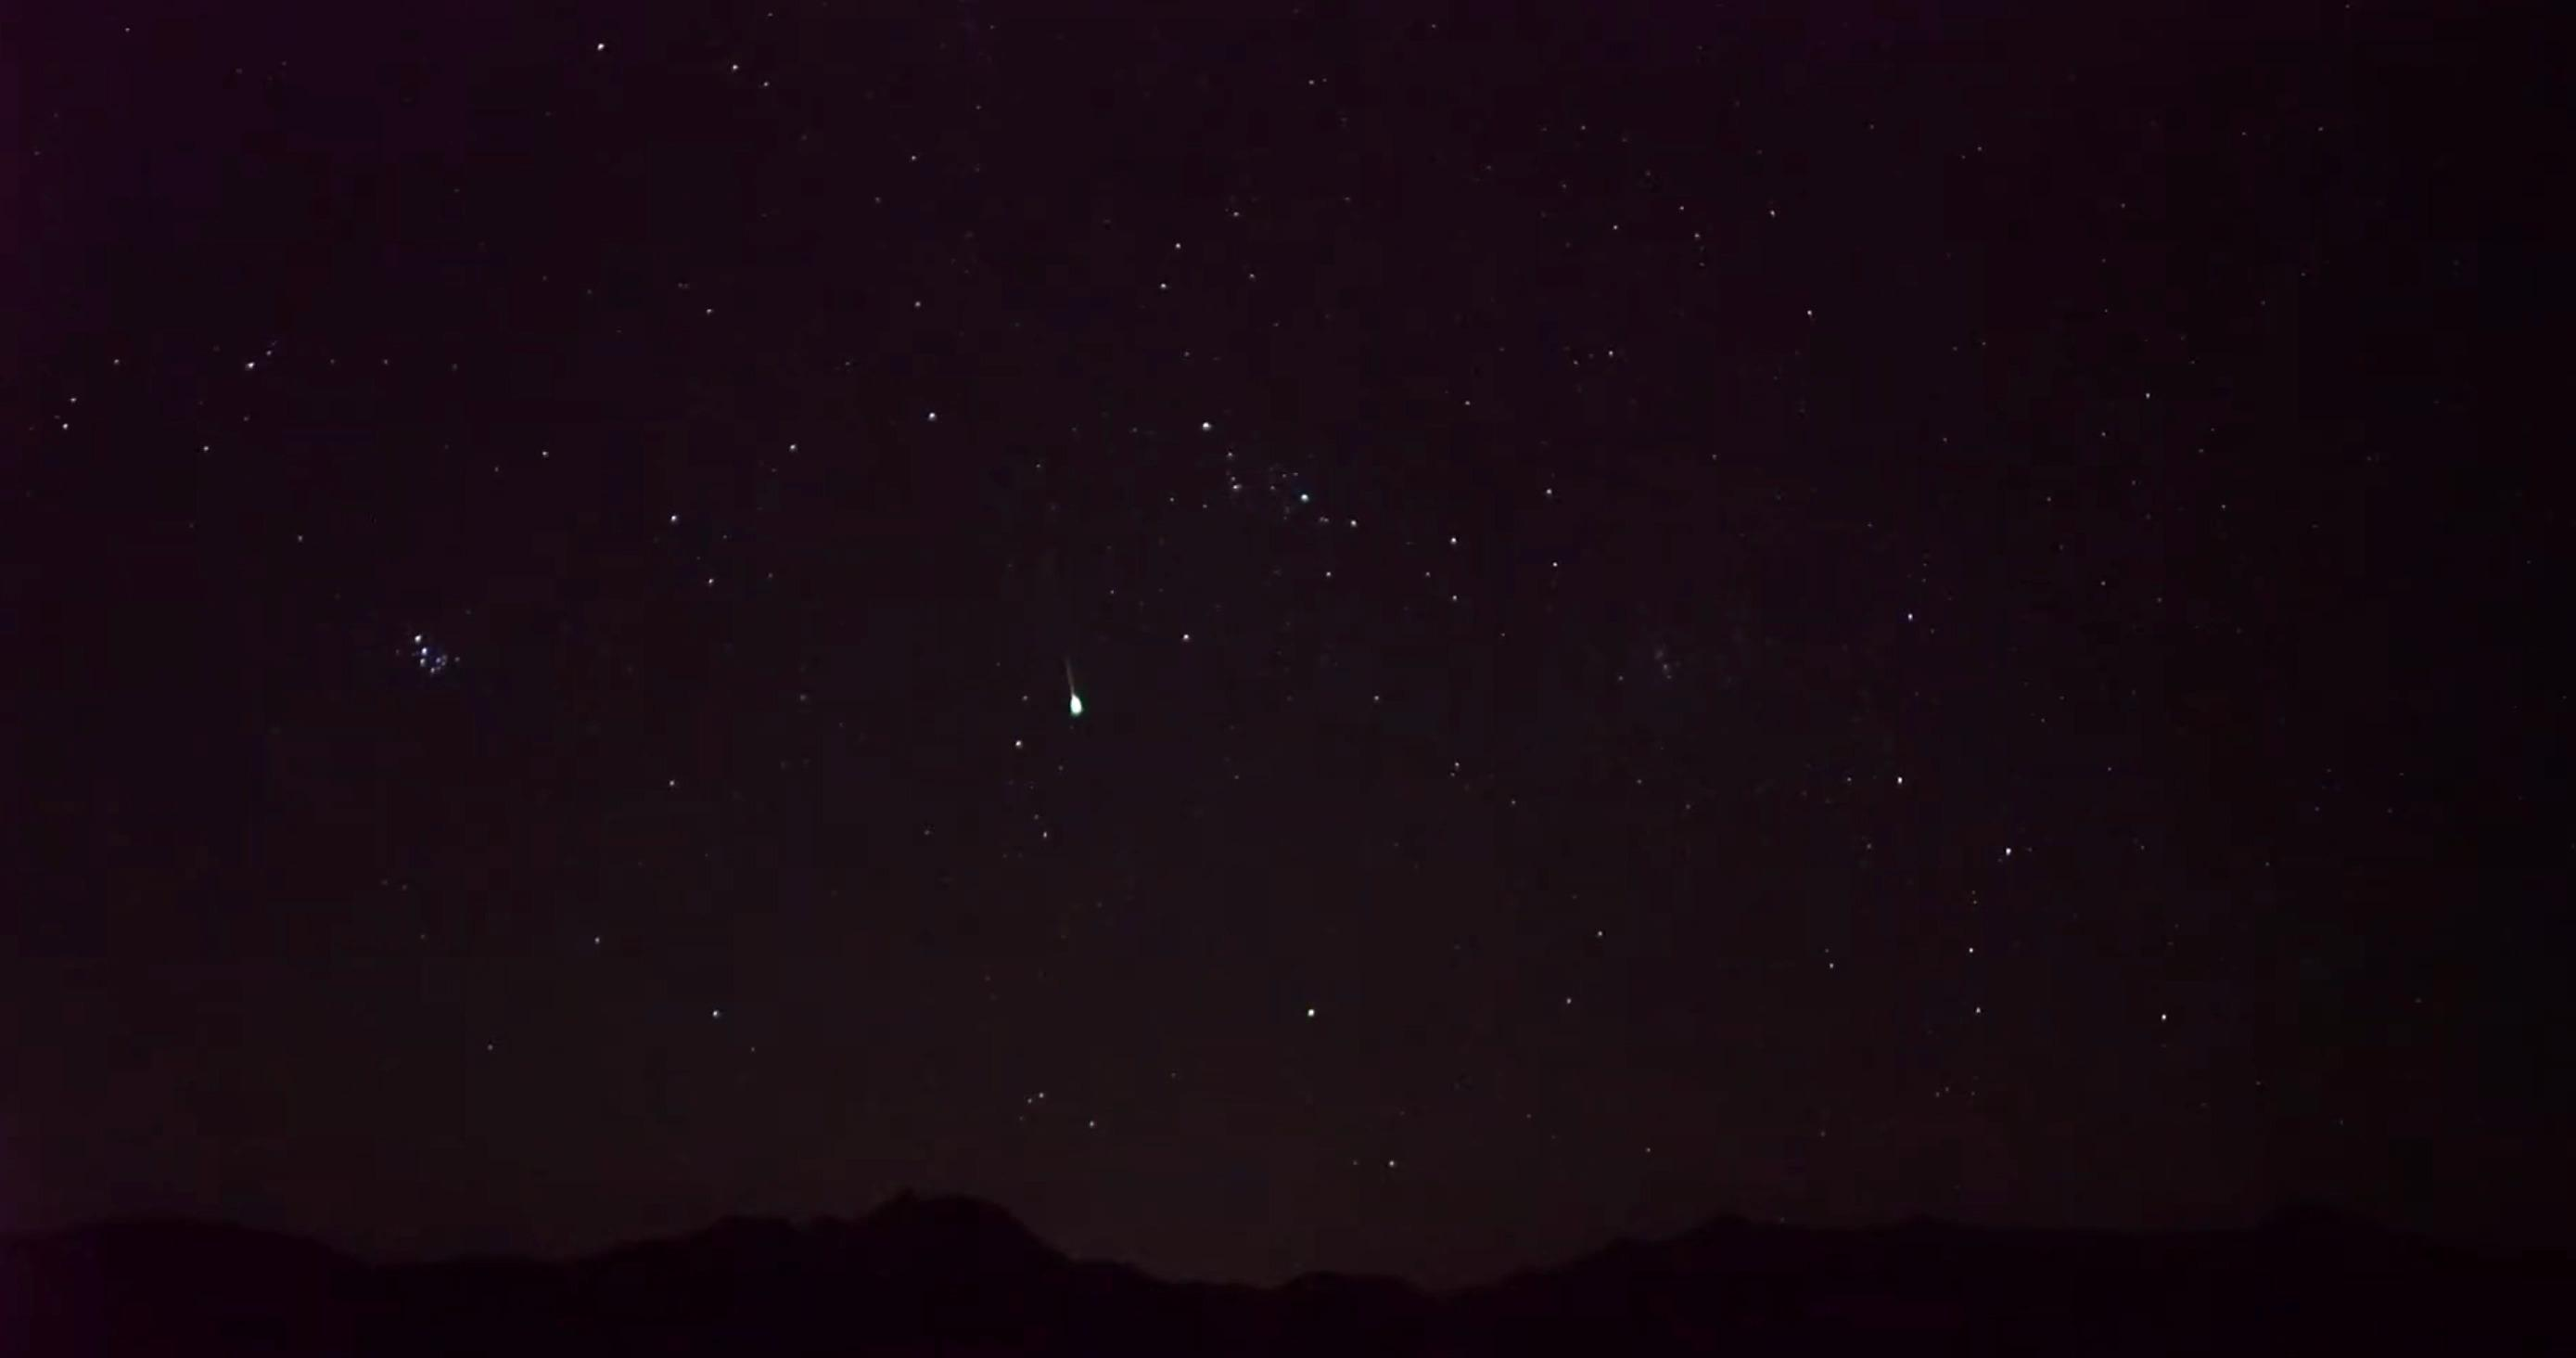meteorite: (1019, 642, 1140, 734)
